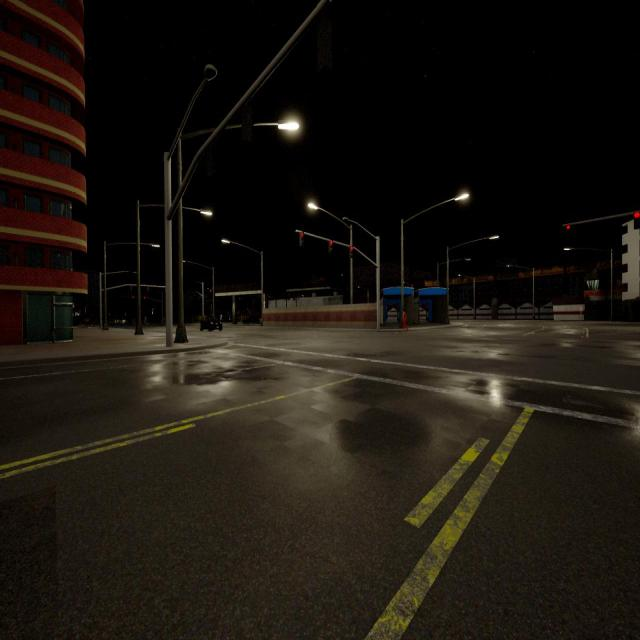Pedestrian: (402, 308, 408, 332)
Traffic_Signs: (579, 307, 583, 311)
Vehicle: (200, 316, 222, 331), (242, 311, 260, 323)
traffic_light: (318, 12, 331, 63), (243, 105, 253, 143), (634, 212, 640, 229), (300, 232, 304, 245), (329, 240, 333, 252), (350, 246, 353, 257), (566, 224, 570, 230), (130, 285, 132, 291), (147, 286, 149, 290), (144, 296, 146, 299), (132, 296, 134, 298)
